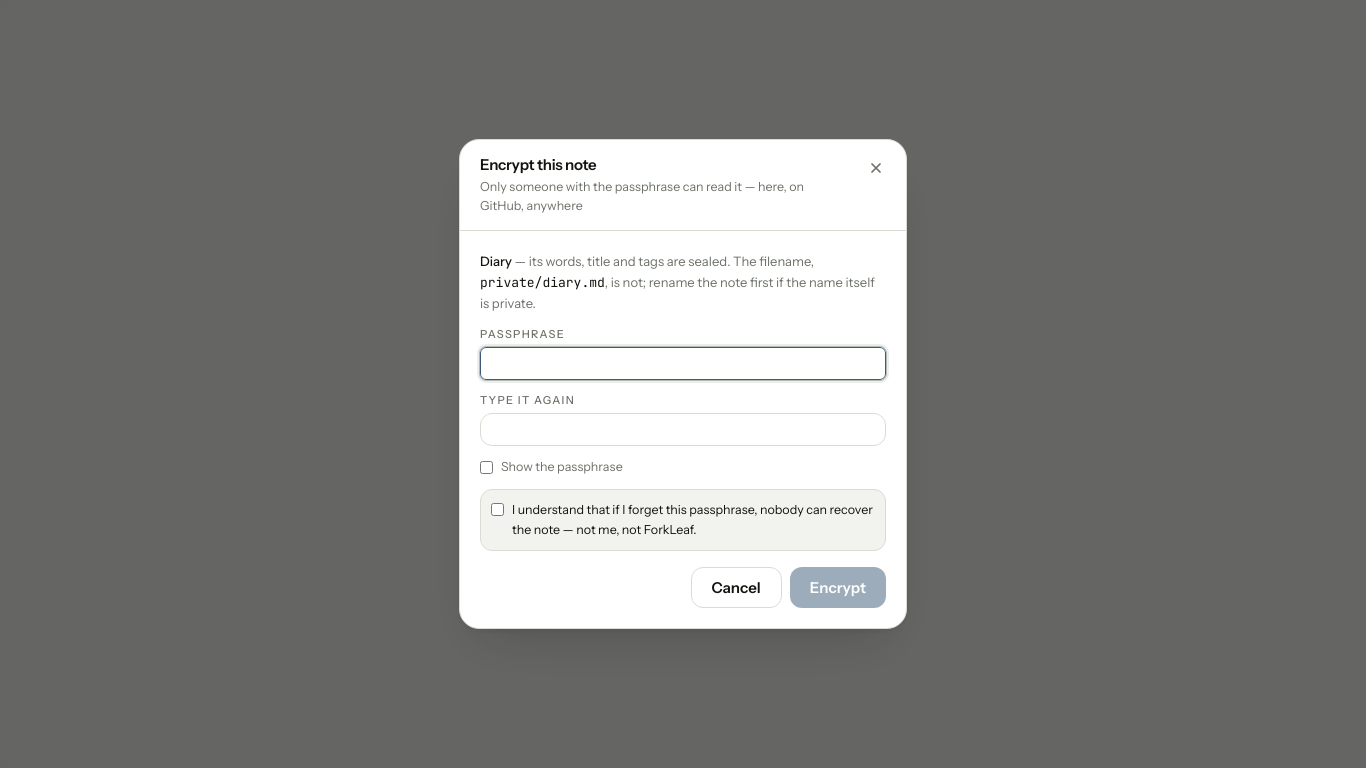
Test: EncryptDialog › says so when encrypting fails
Type "river piano lantern oak" into the password field labelled "Passphrase" at point(683, 363), box 480,346 -> 886,380
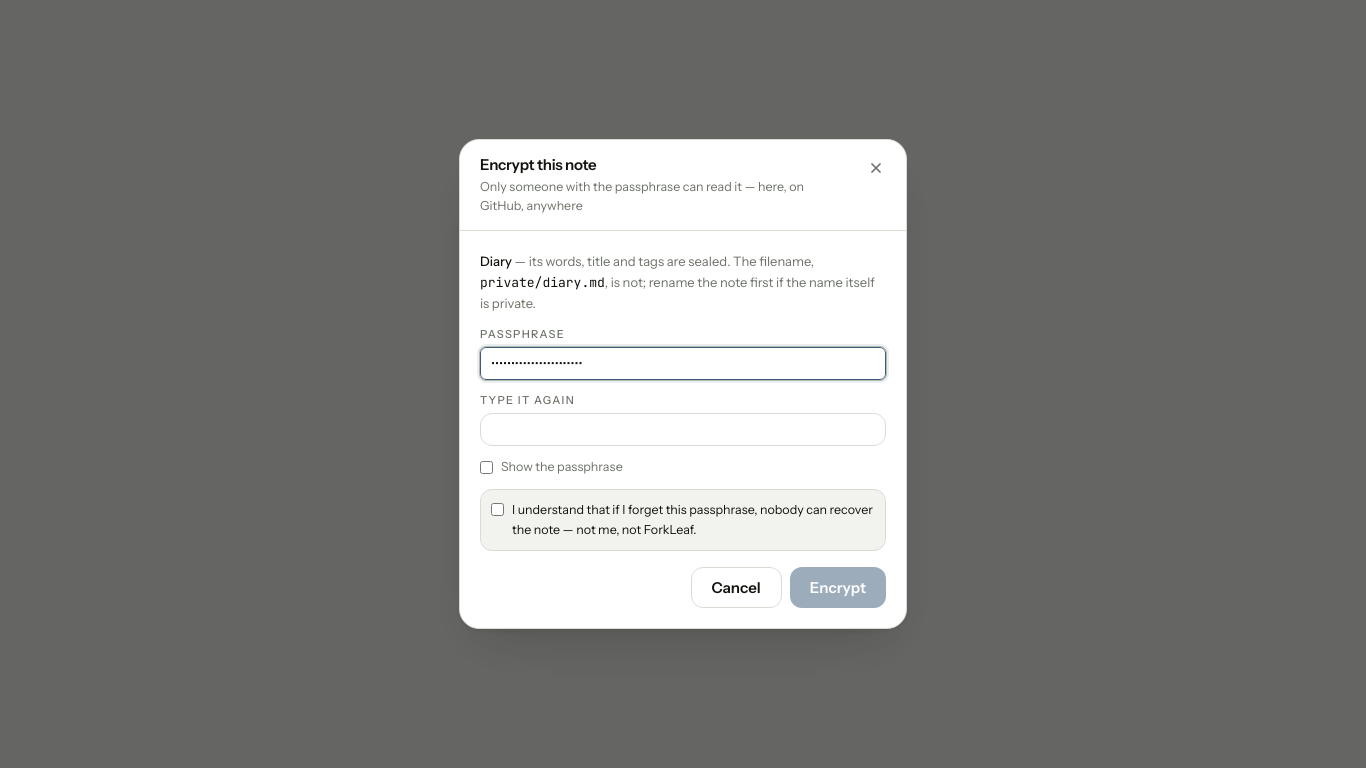
Type "river piano lantern oak" into the password field labelled "Type it again" at point(683, 429), box 480,412 -> 886,446
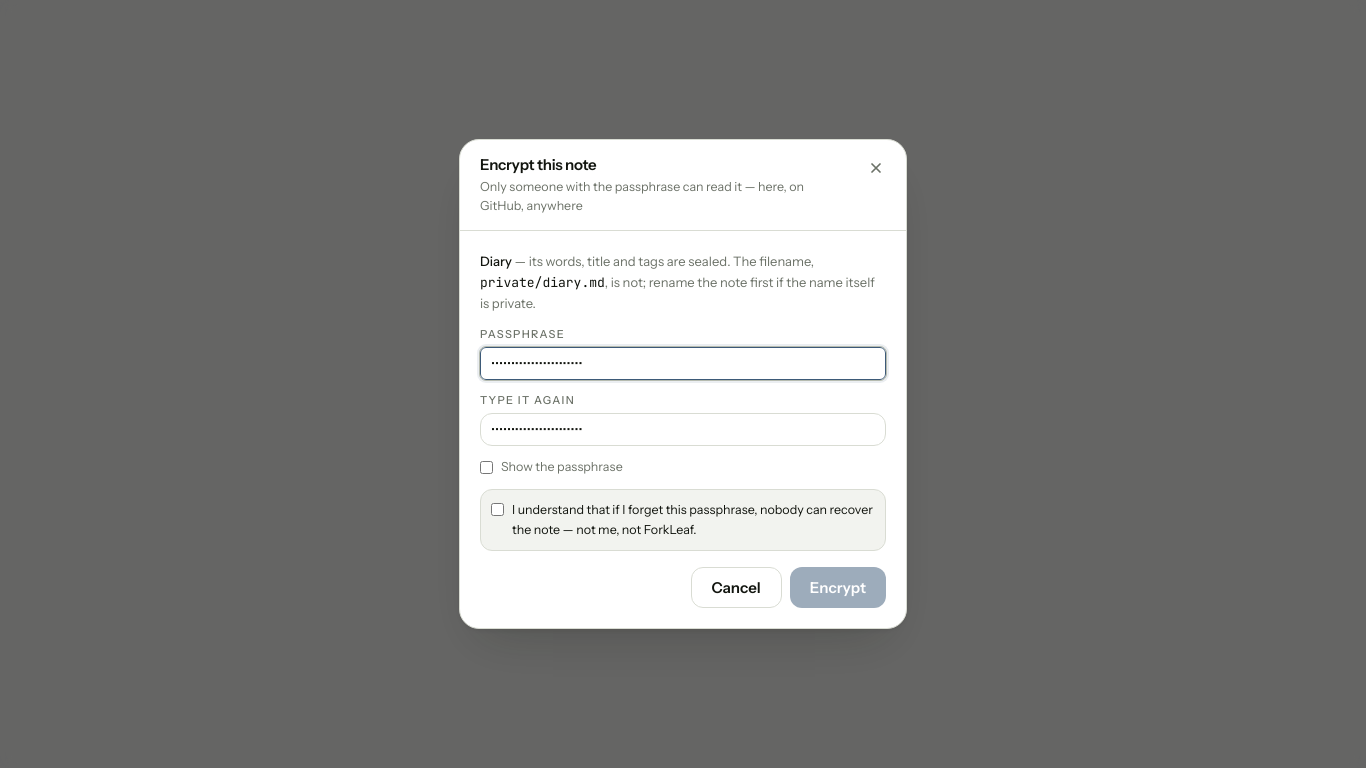
Click the checkbox labelled "nobody can recover" at point(498, 509), box 491,503 -> 504,516
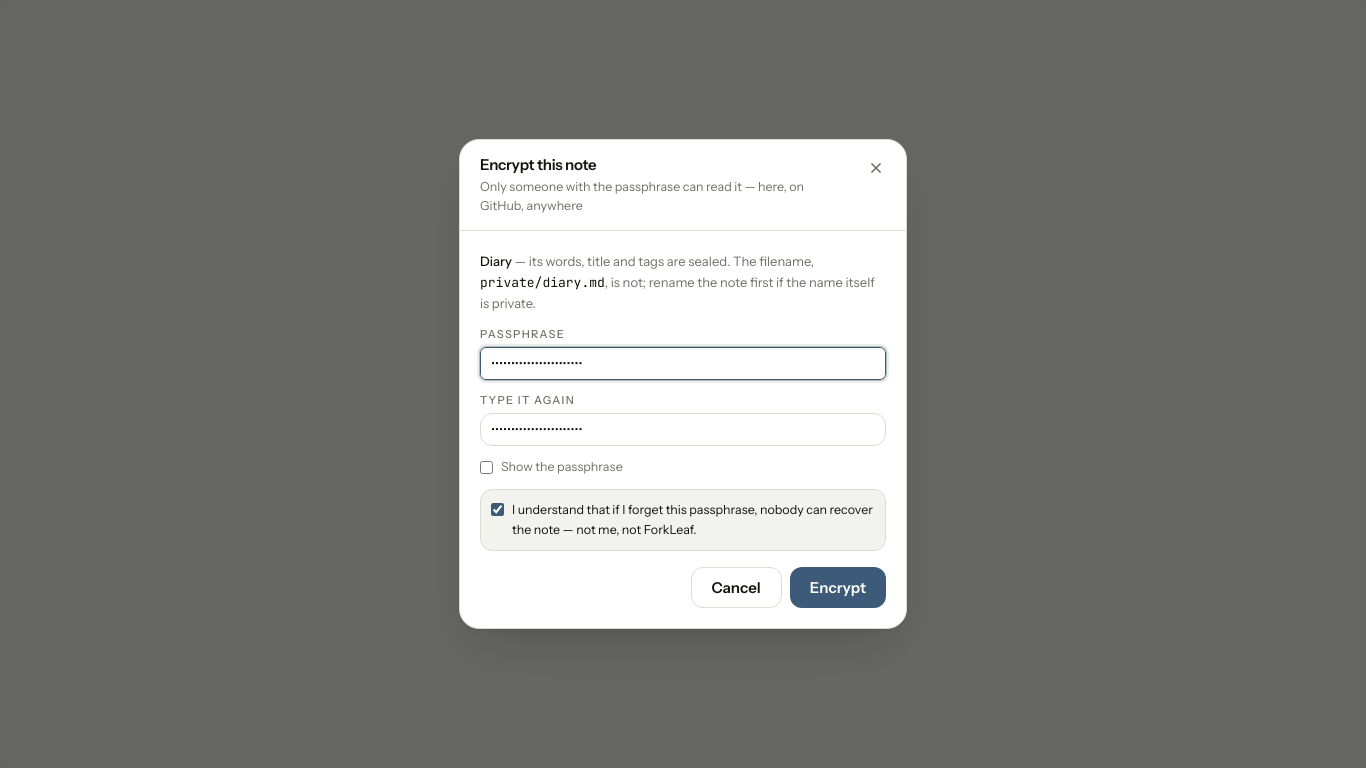
Click the button "Encrypt" at point(838, 588), box 790,567 -> 886,608
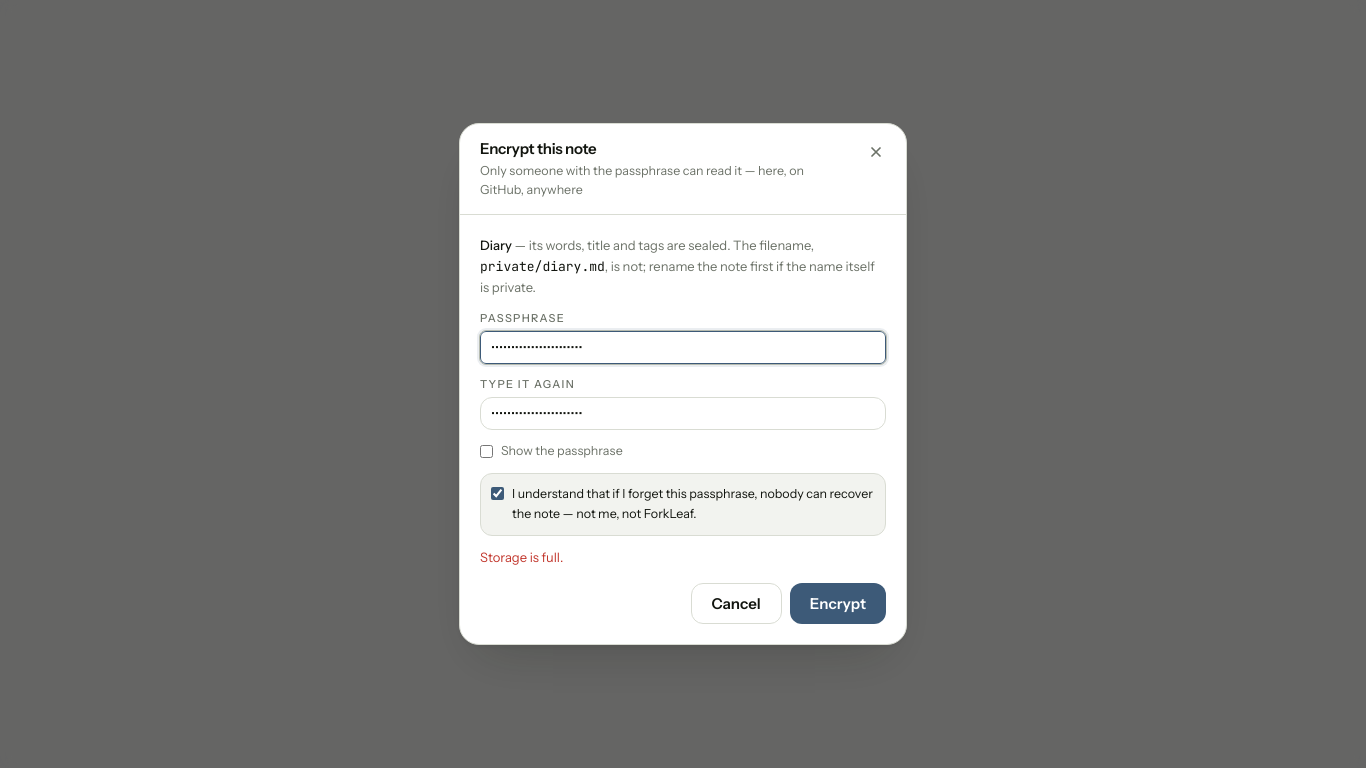
Result: the message reads "Storage is full." at 480,549 -> 563,565
